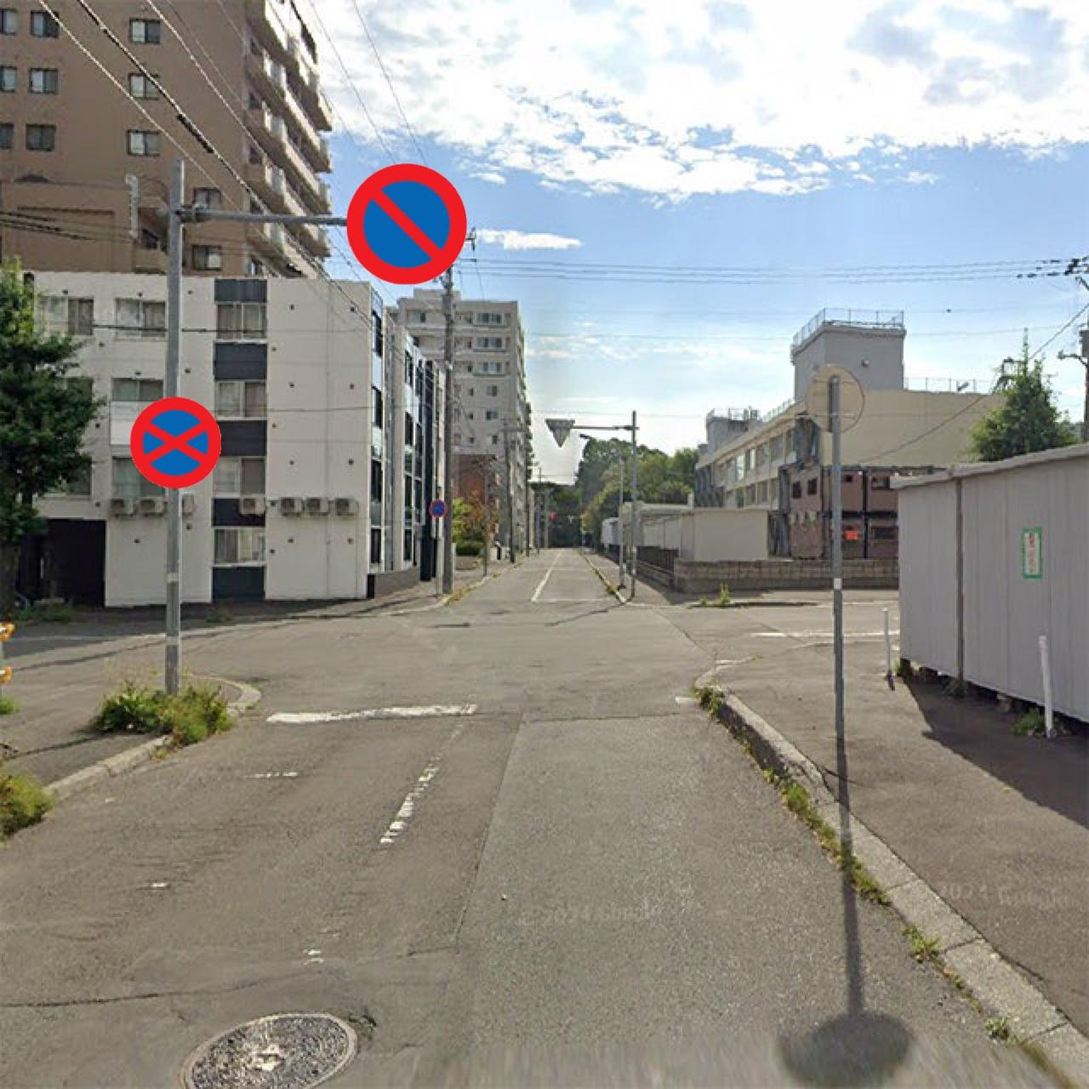stop_sign: (128, 398, 226, 494)
